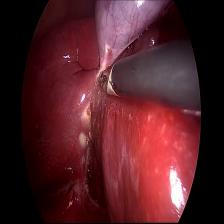Hook: (92, 52, 118, 111)
